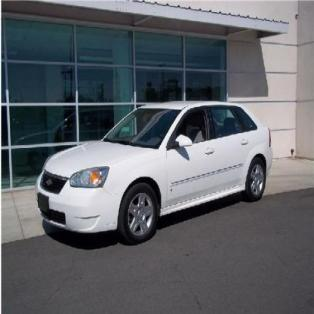Auto: (36, 102, 271, 243)
